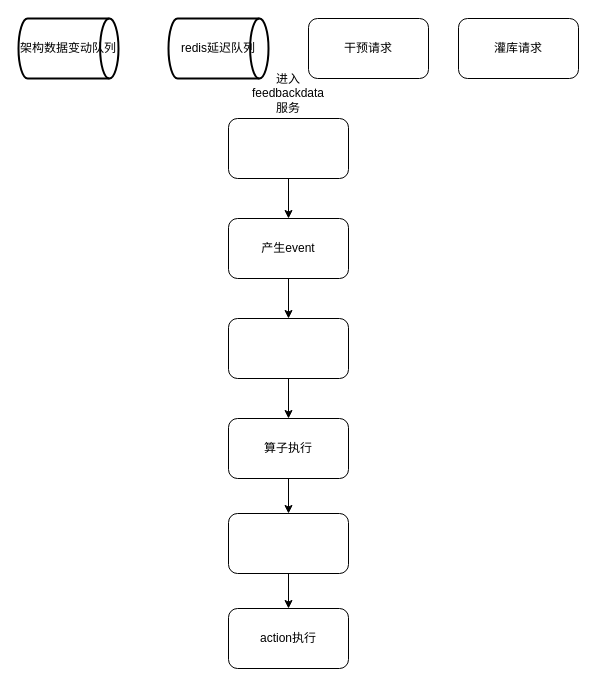
This 596x686 diagram has some shape labels left out. Here are the shapes that lost their labels. From the top down, the box of each, then its label:
(228, 118, 348, 178): parser数据解析
(228, 318, 348, 378): dispatcher算子派发
(228, 512, 348, 574): action
